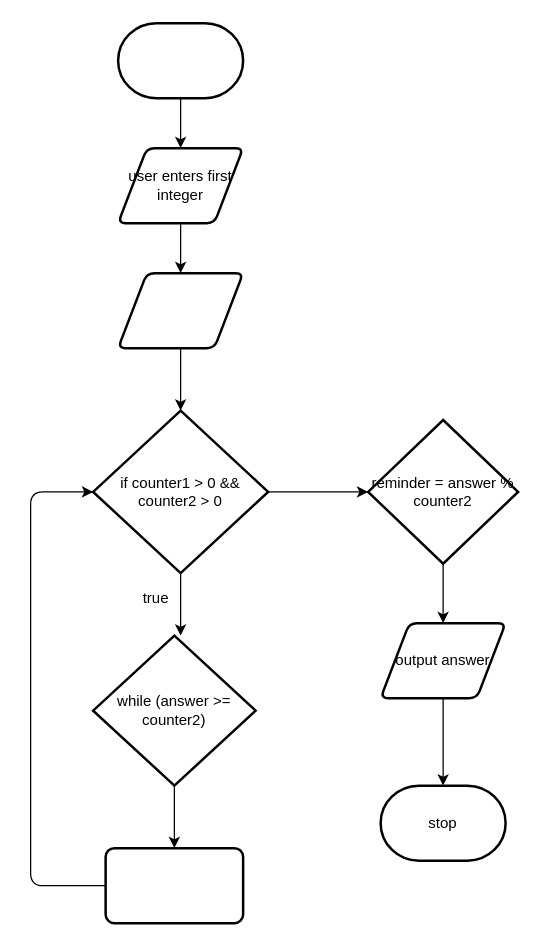
The diagram is 541 pixels wide and 945 high, and some of its shapes have lost their labels. Here are the shapes that lost their labels. From the top down, the box of each, then its label:
(116, 21, 244, 99): start
(116, 271, 244, 349): user enters second integer
(104, 846, 244, 924): addedNumber = addedNumber + 1
